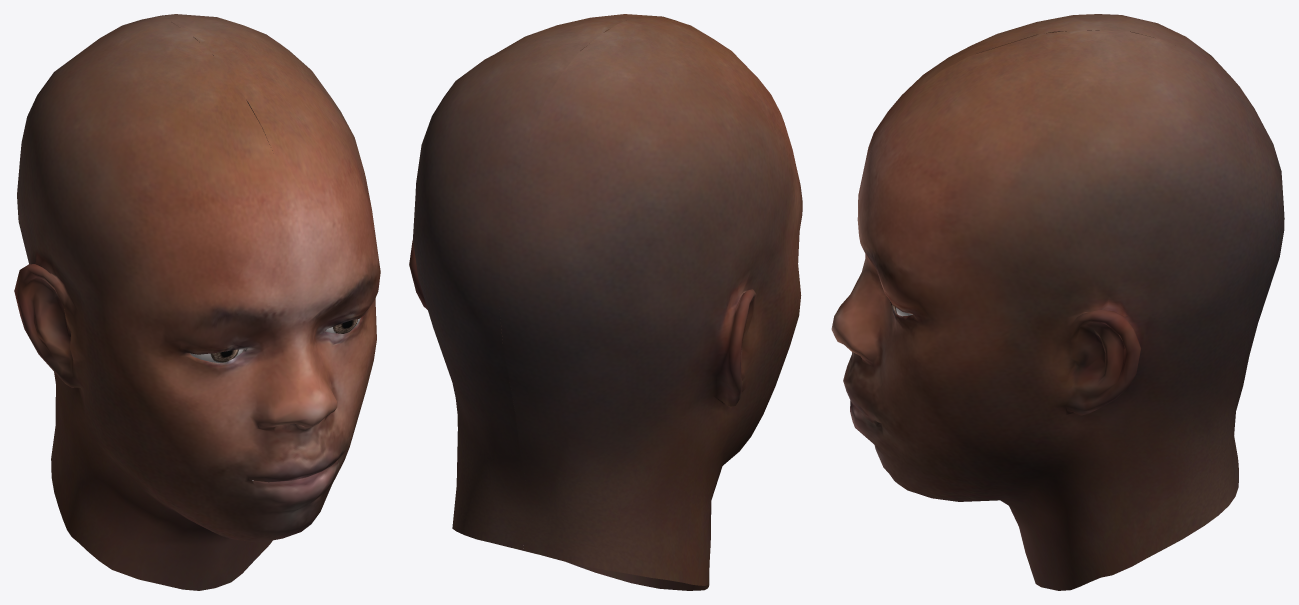
Rendered from blink_000001.obj.
3 renders of one model, left to right at view 1: azimuth 30°, elevation 25°; view 2: azimuth 150°, elevation 25°; view 3: azimuth 270°, elevation 25°, orthographic. The views are drawn at different scales.
Visible parts, largest first — view 1: model.002_model.004; view 2: model.002_model.004; view 3: model.002_model.004.
Part boxes in pixels (x1=…): model.002_model.004: x1=14, y1=14, x2=380, y2=590; model.002_model.004: x1=409, y1=14, x2=802, y2=590; model.002_model.004: x1=831, y1=14, x2=1284, y2=590.
Bounding box in the file's own units: 0.4496 × 0.7369 × 0.5524.
Materials: 1 (1 with a texture image).
